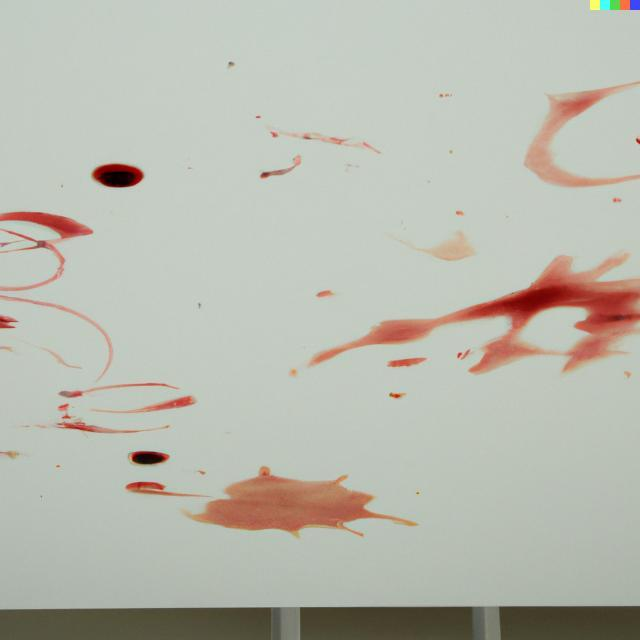blood: (91, 163, 143, 188), (127, 451, 170, 466)
